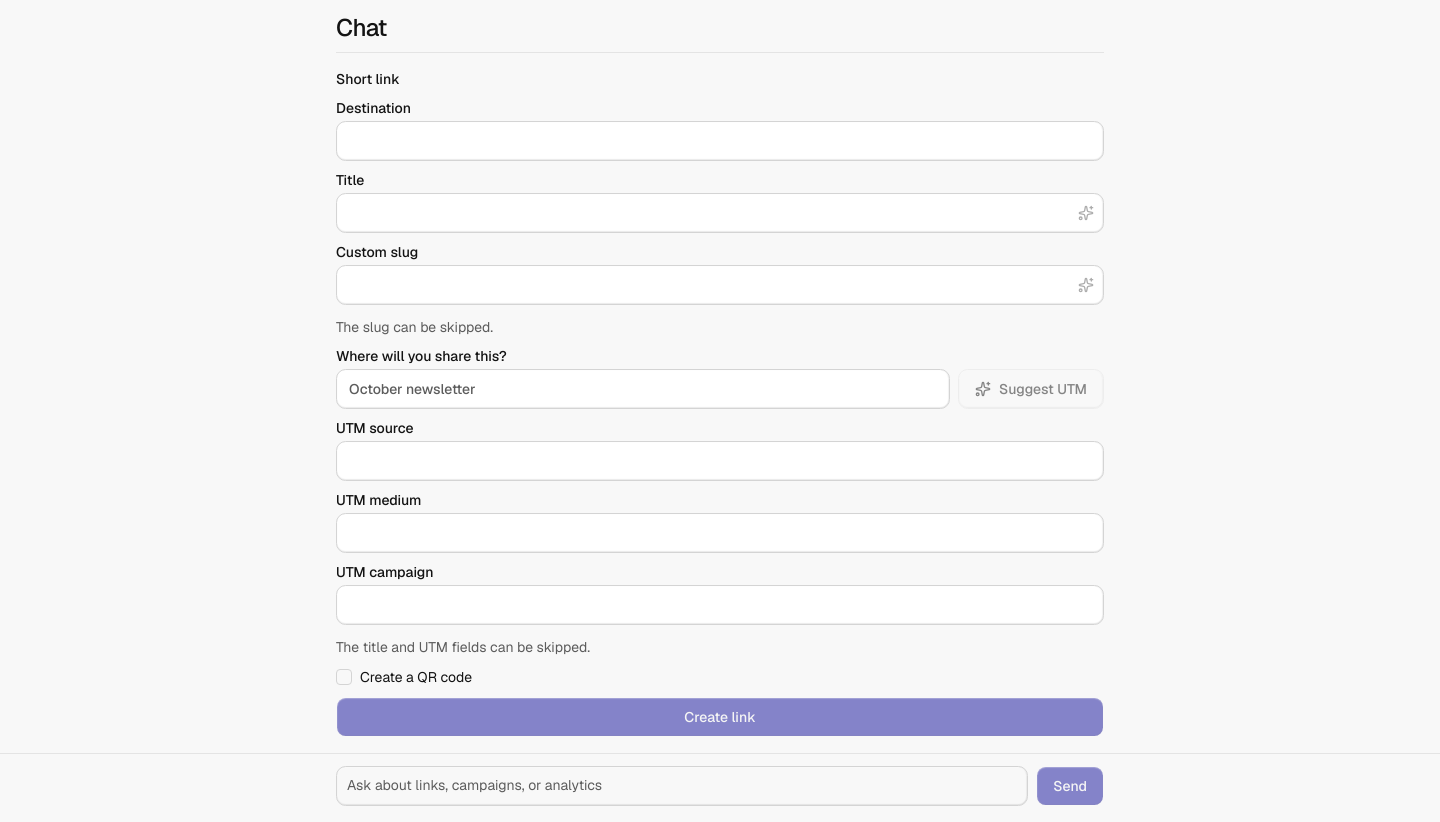
chat conversation › fills the title from the page suggestion
Step 1. Type "https://ipstack.com/pricing/" into the field labelled "Destination" → (720, 141), box [336,121,1104,161]
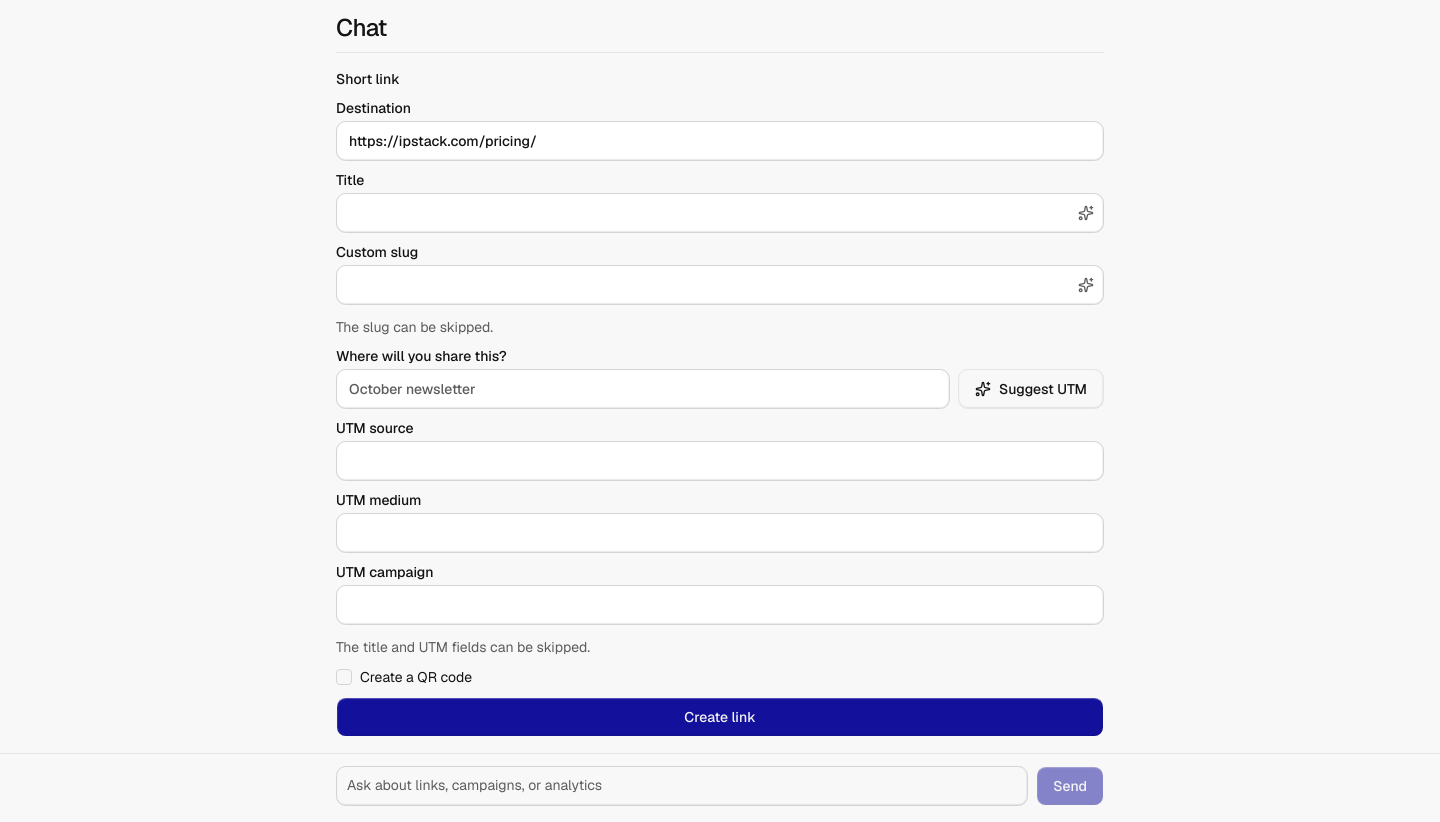
Step 2. Click the button named "Suggest a title" → (1086, 213), box [1072,199,1100,227]
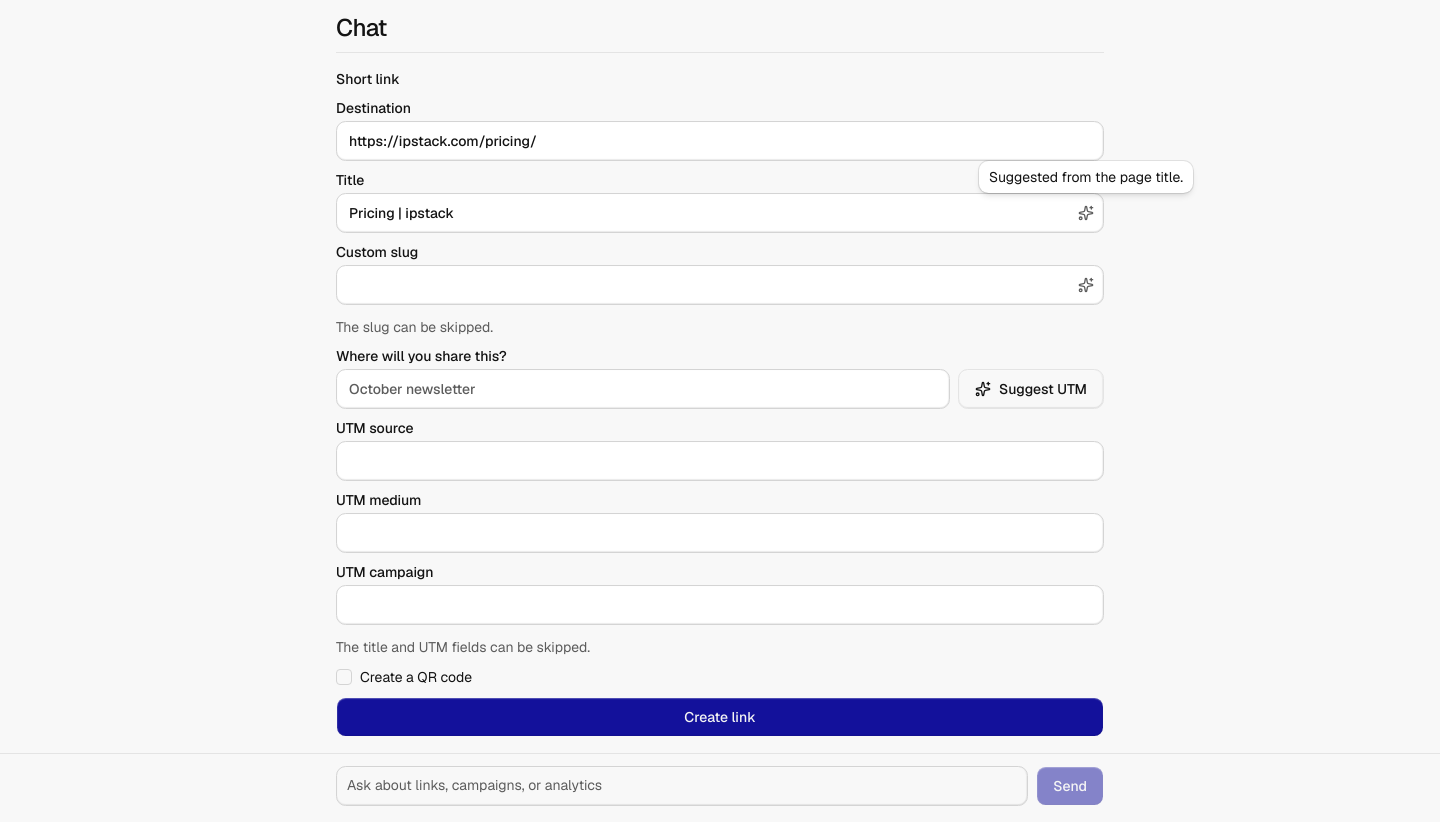
Expected: the field showing "Pricing | ipstack" is shown, [336,193,1104,233]
Expected: the tooltip "Suggested from the page title." is shown, [979,161,1193,193]
